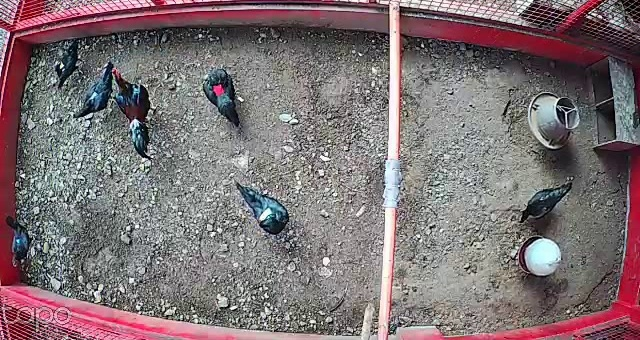Chicken: (233, 175, 294, 242), (198, 64, 244, 131), (518, 180, 580, 226), (71, 59, 117, 120), (53, 42, 85, 94)
Rooster: (108, 65, 163, 160)
Saddle_Color_Red: (214, 83, 225, 94)
Saddle_Color_Yellow: (58, 62, 66, 70)
